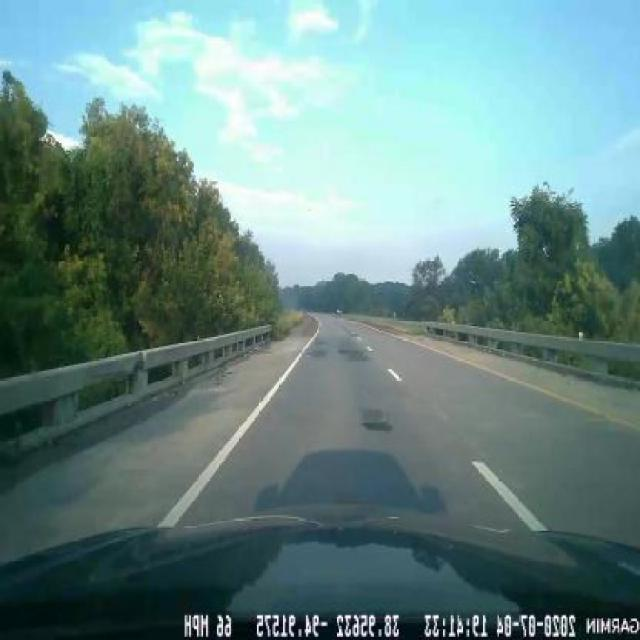pothole: (359, 405, 396, 443)
